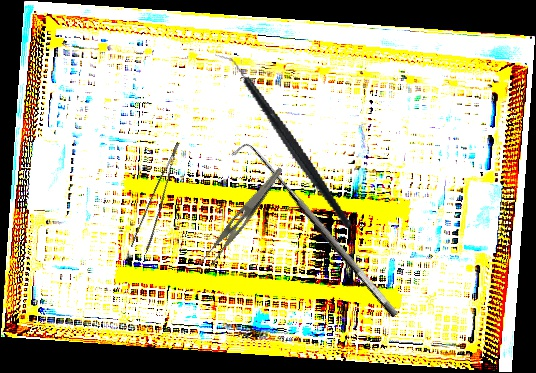Chopper: (214, 30, 353, 250)
Dressing Forceps: (196, 159, 284, 275)
Hook Surgical: (229, 133, 401, 330)
Tissue Forceps: (125, 141, 198, 255)
